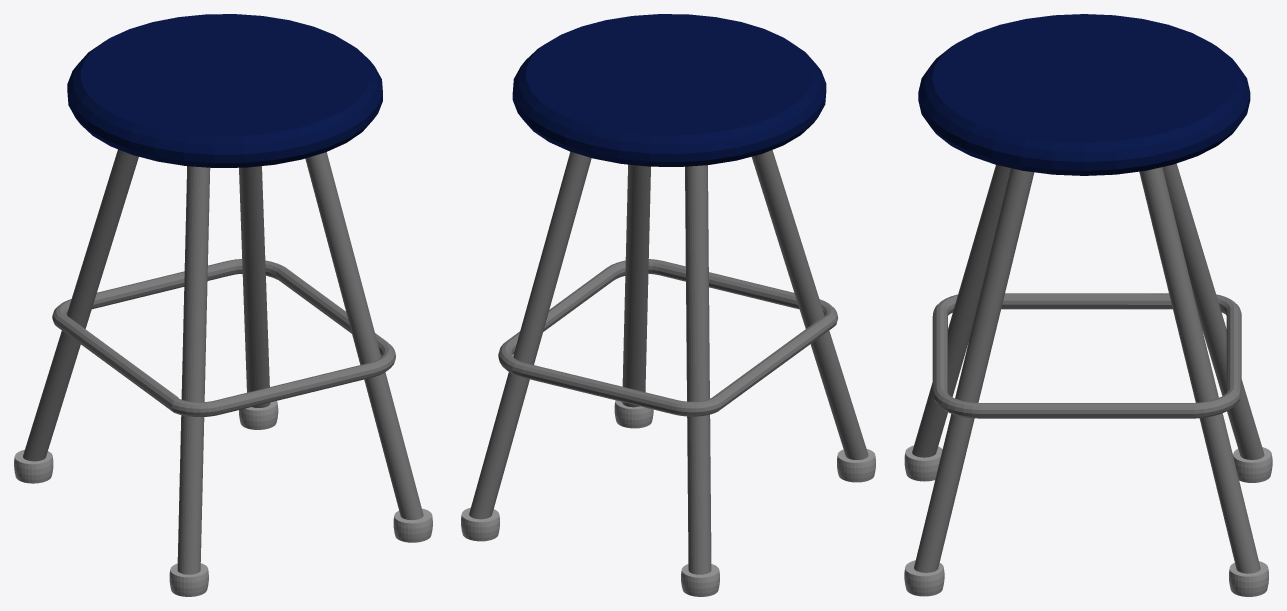
Rendered from Stool.fbx.
The picture shows the model from 3 angles, left to right: view 1: azimuth 30°, elevation 25°; view 2: azimuth 150°, elevation 25°; view 3: azimuth 270°, elevation 25°; orthographic projection. The views are drawn at different scales.
Visible parts, largest first — view 1: Legs, Sit, StoolNubs; view 2: Legs, Sit, StoolNubs; view 3: Sit, Legs, StoolNubs.
Boxes of the visible parts, bbox=[...] form: Legs: bbox=[23, 149, 423, 574]; Sit: bbox=[67, 14, 382, 167]; StoolNubs: bbox=[14, 401, 432, 596]; Legs: bbox=[469, 150, 868, 574]; Sit: bbox=[512, 14, 826, 166]; StoolNubs: bbox=[461, 400, 875, 596]; Sit: bbox=[918, 14, 1250, 175]; Legs: bbox=[912, 163, 1264, 573]; StoolNubs: bbox=[904, 445, 1272, 596].
Bounding box in the file's own units: 218 × 329 × 242.
